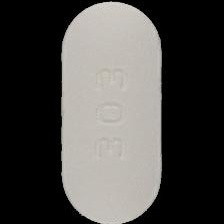50090-0798: (0, 0, 224, 224)
